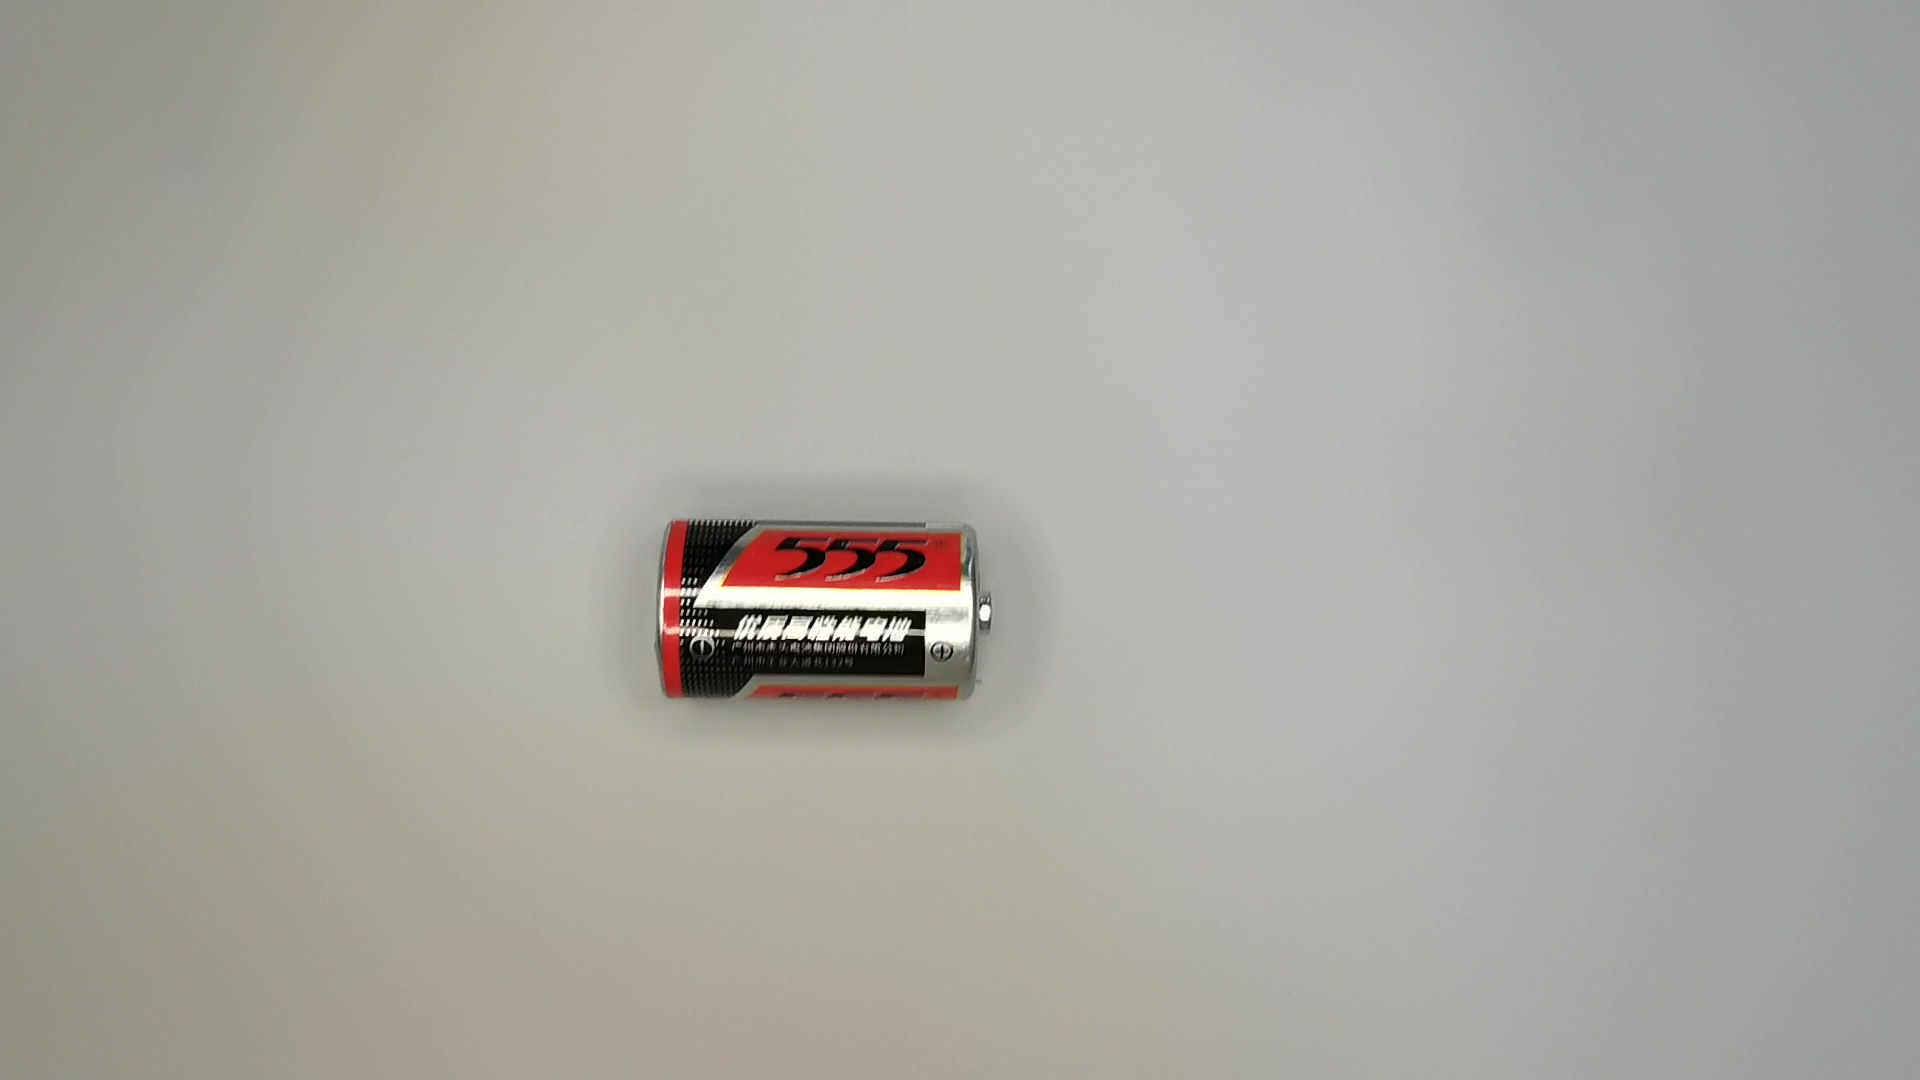battery: (655, 513, 996, 715)
